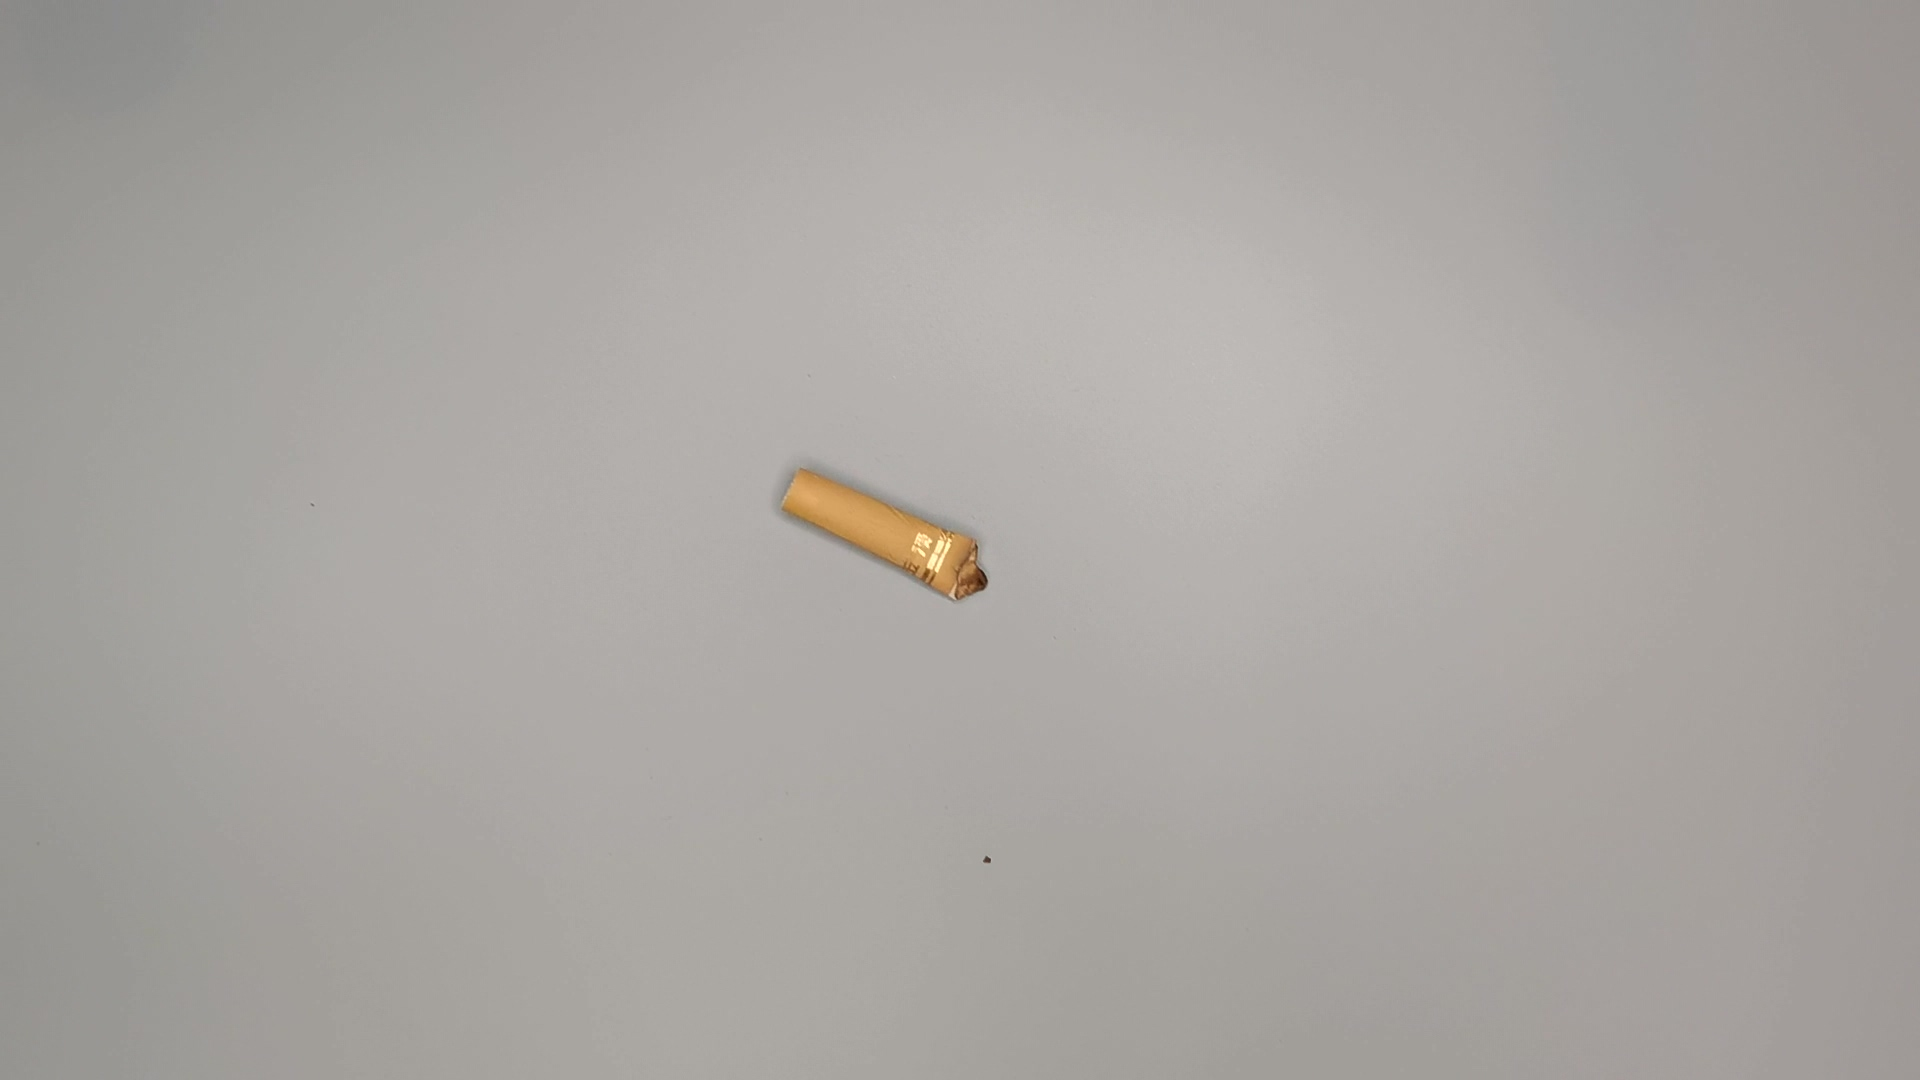cigarette: (760, 464, 1011, 622)
